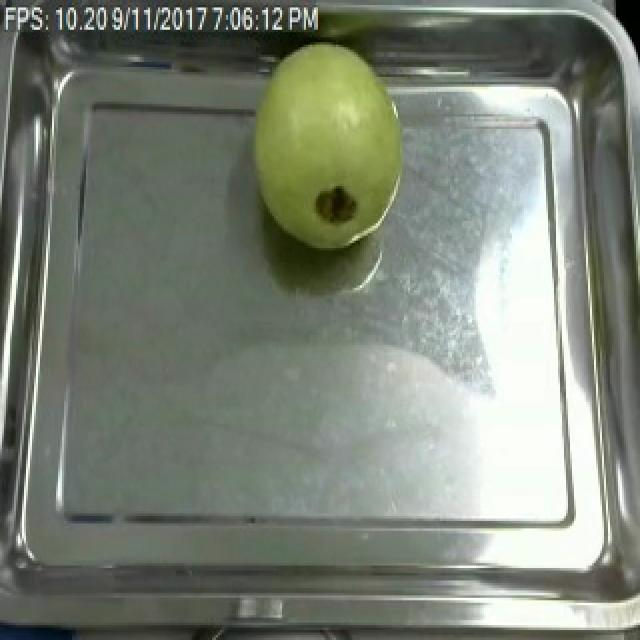Fruit: (242, 32, 414, 258)
